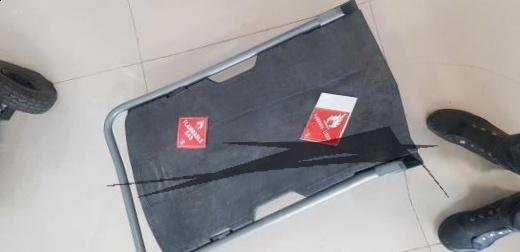flammable: (298, 107, 350, 146), (176, 115, 208, 149)
